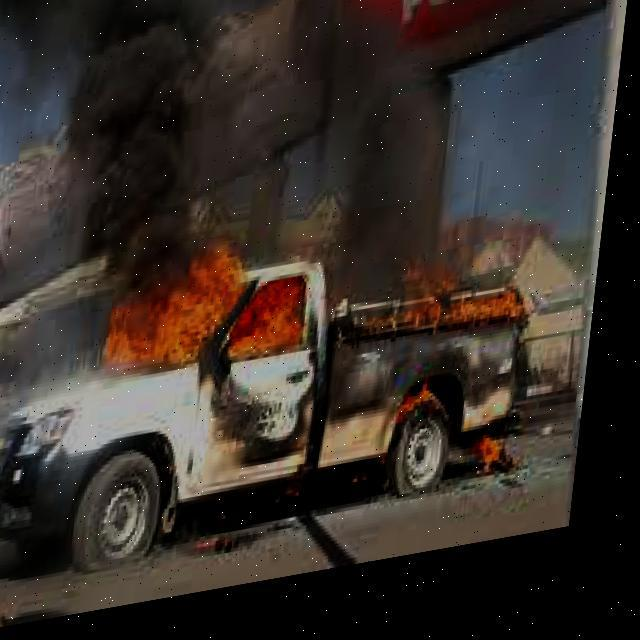Fire: (106, 234, 327, 396), (400, 265, 549, 365), (478, 428, 542, 503), (388, 386, 450, 456)
